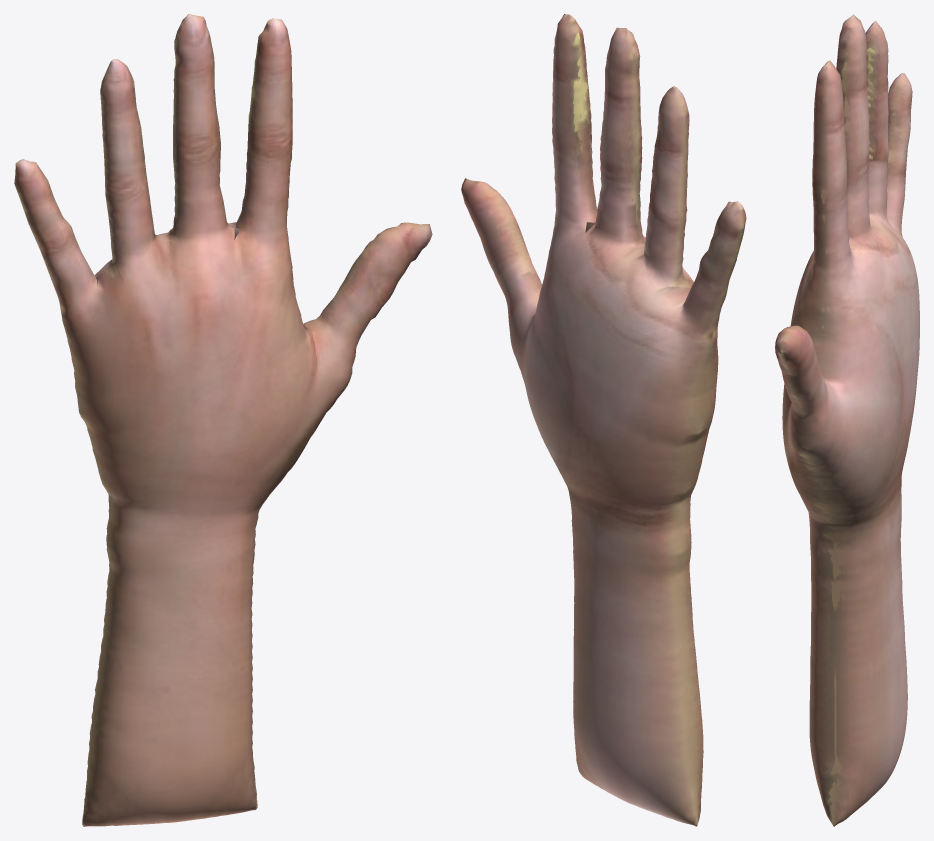
File: kulit.glb
The picture shows the model from 3 angles, left to right: view 1: azimuth 30°, elevation 25°; view 2: azimuth 150°, elevation 25°; view 3: azimuth 270°, elevation 25°; orthographic projection. The views are drawn at different scales.
Parts seen in each view (by area): view 1: Object_5; view 2: Object_5; view 3: Object_5.
Part boxes in pixels (<box>): Object_5: <box>14,14,432,826</box>; Object_5: <box>461,14,746,826</box>; Object_5: <box>775,14,919,826</box>.
Size of the model in its own units: 0.2163 by 0.4666 by 0.078.
Materials: 1 (1 with a texture image).
